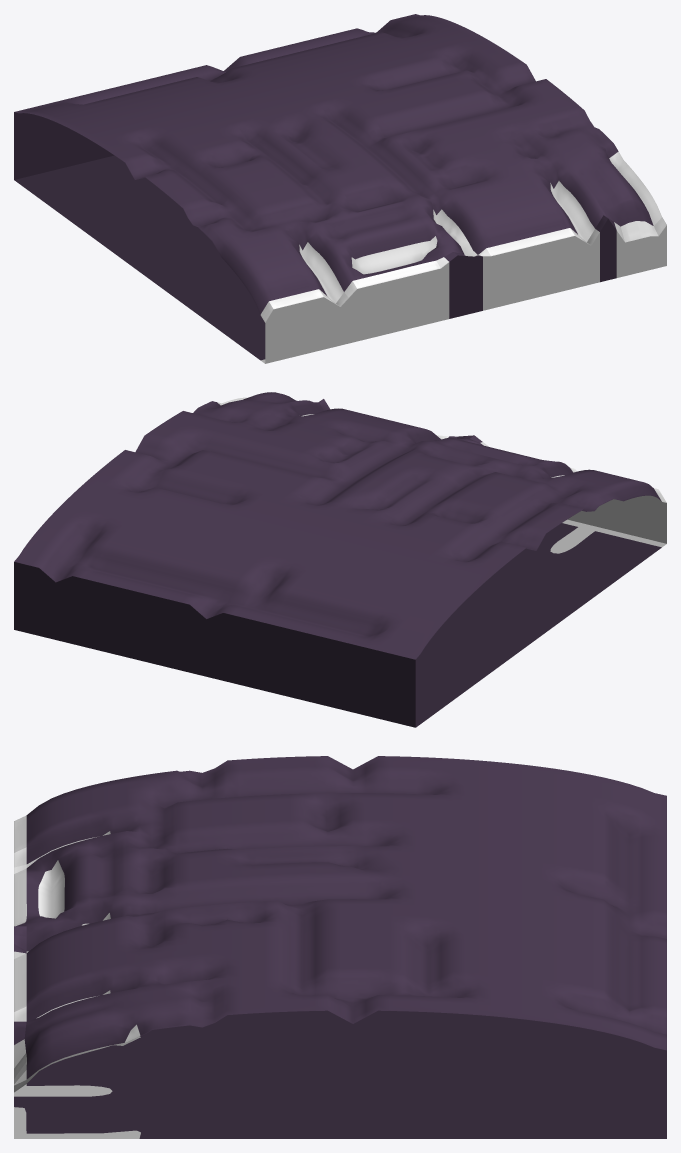
The model's file is delbld-hull-595.glb.
The picture shows the model from 3 angles, top to bottom: view 1: azimuth 30°, elevation 25°; view 2: azimuth 150°, elevation 25°; view 3: azimuth 270°, elevation 25°; orthographic projection. The views are drawn at different scales.
Parts seen in each view (by area): view 1: delbld-hull-595; view 2: delbld-hull-595; view 3: delbld-hull-595.
Boxes of the visible parts, x1,y1,x2,y2 form: delbld-hull-595: (14, 14, 666, 363); delbld-hull-595: (14, 392, 666, 727); delbld-hull-595: (14, 756, 666, 1138).
Bounding box in the file's own units: 2 × 0.47 × 2.17.
4 materials, 4 textured.
